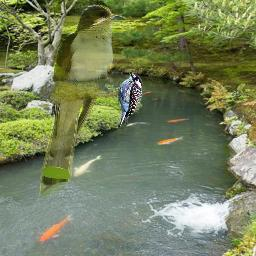Cuckoo: (39, 5, 126, 199)
Woodpecker: (109, 68, 146, 133)
